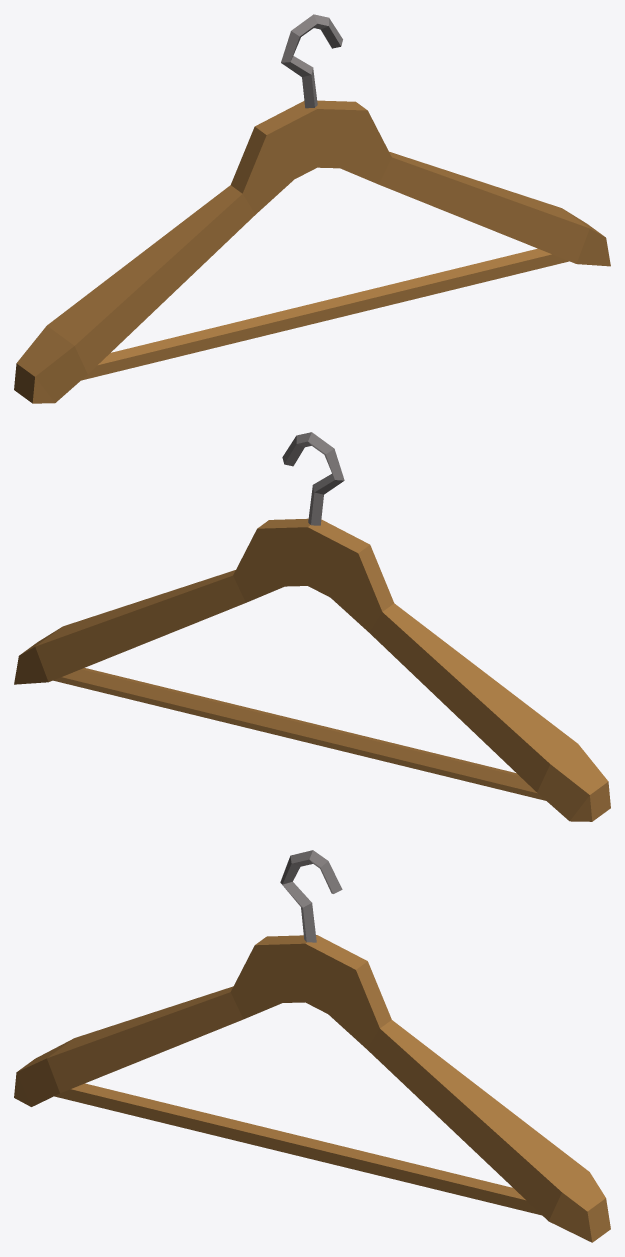
Rendered from hanger.fbx.
3 views of the same model, one above another, from view 1: azimuth 30°, elevation 25°; view 2: azimuth 150°, elevation 25°; view 3: azimuth 330°, elevation 25° (orthographic).
Parts seen in each view (by area): view 1: hanger; view 2: hanger; view 3: hanger.
Boxes of the visible parts, x1=… form: hanger: x1=14, y1=14, x2=610, y2=403; hanger: x1=14, y1=432, x2=610, y2=821; hanger: x1=14, y1=850, x2=610, y2=1242.
Bounding box in the file's own units: 0.4901 × 0.2557 × 0.0408.
